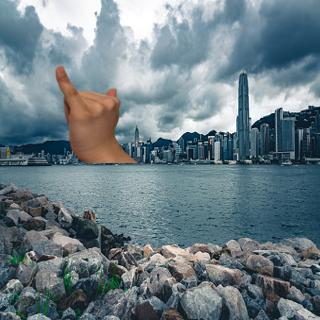HAVE: (50, 64, 131, 165)
